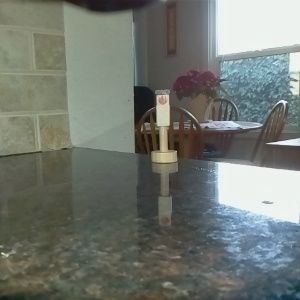traffic light red: (149, 87, 178, 164)
